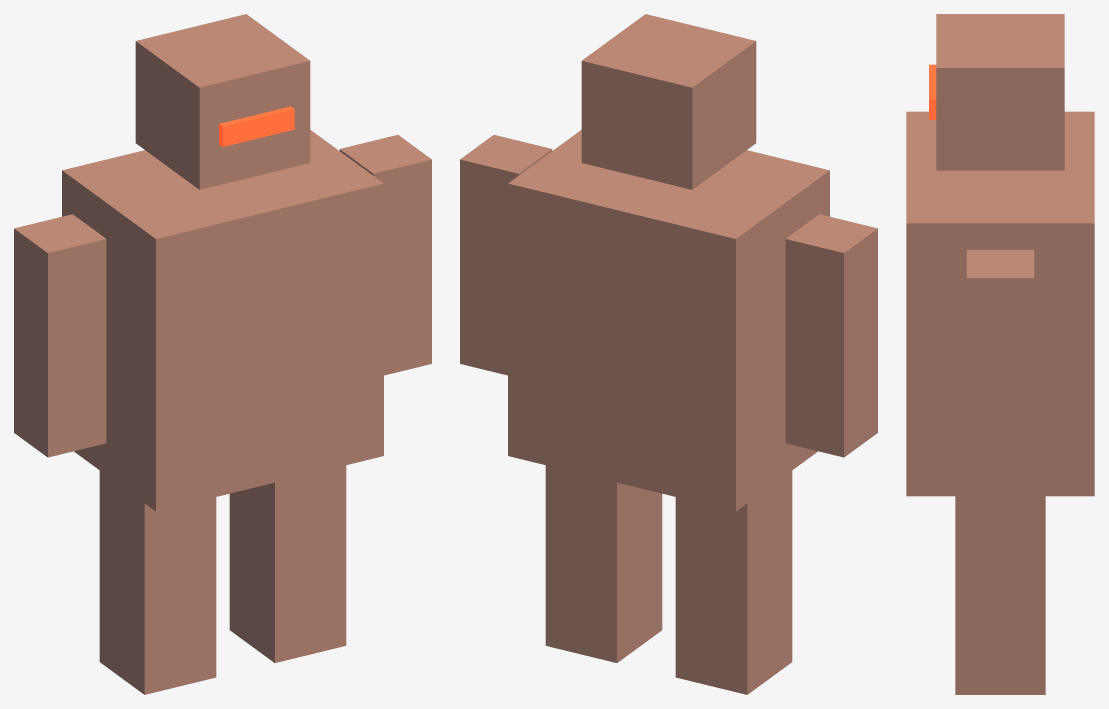
Rendered from war_machine.glb.
3 views of the same model, side by side, from view 1: azimuth 30°, elevation 25°; view 2: azimuth 150°, elevation 25°; view 3: azimuth 270°, elevation 25° (orthographic).
Parts seen in each view (by area): view 1: core; view 2: core; view 3: core.
Boxes of the visible parts, <box> form: core: <box>14,14,431,694</box>; core: <box>460,14,877,694</box>; core: <box>906,14,1094,694</box>.
Size of the model in its own units: 1.18 by 1.77 by 0.5.
